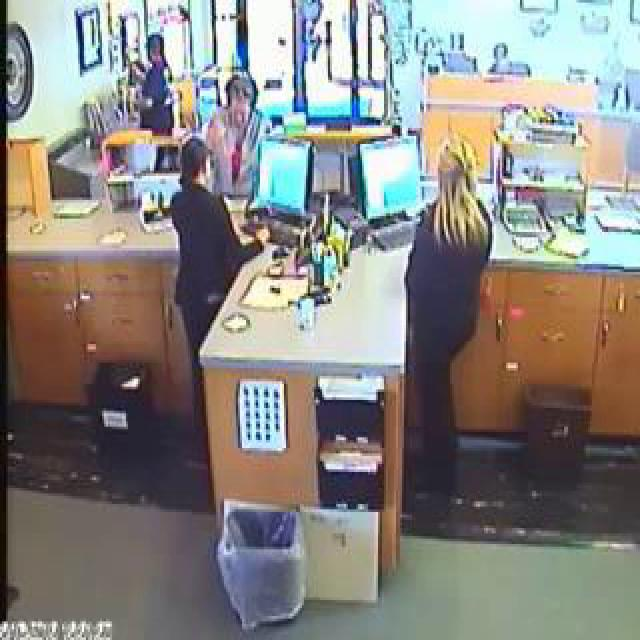robbery: (154, 7, 334, 292)
